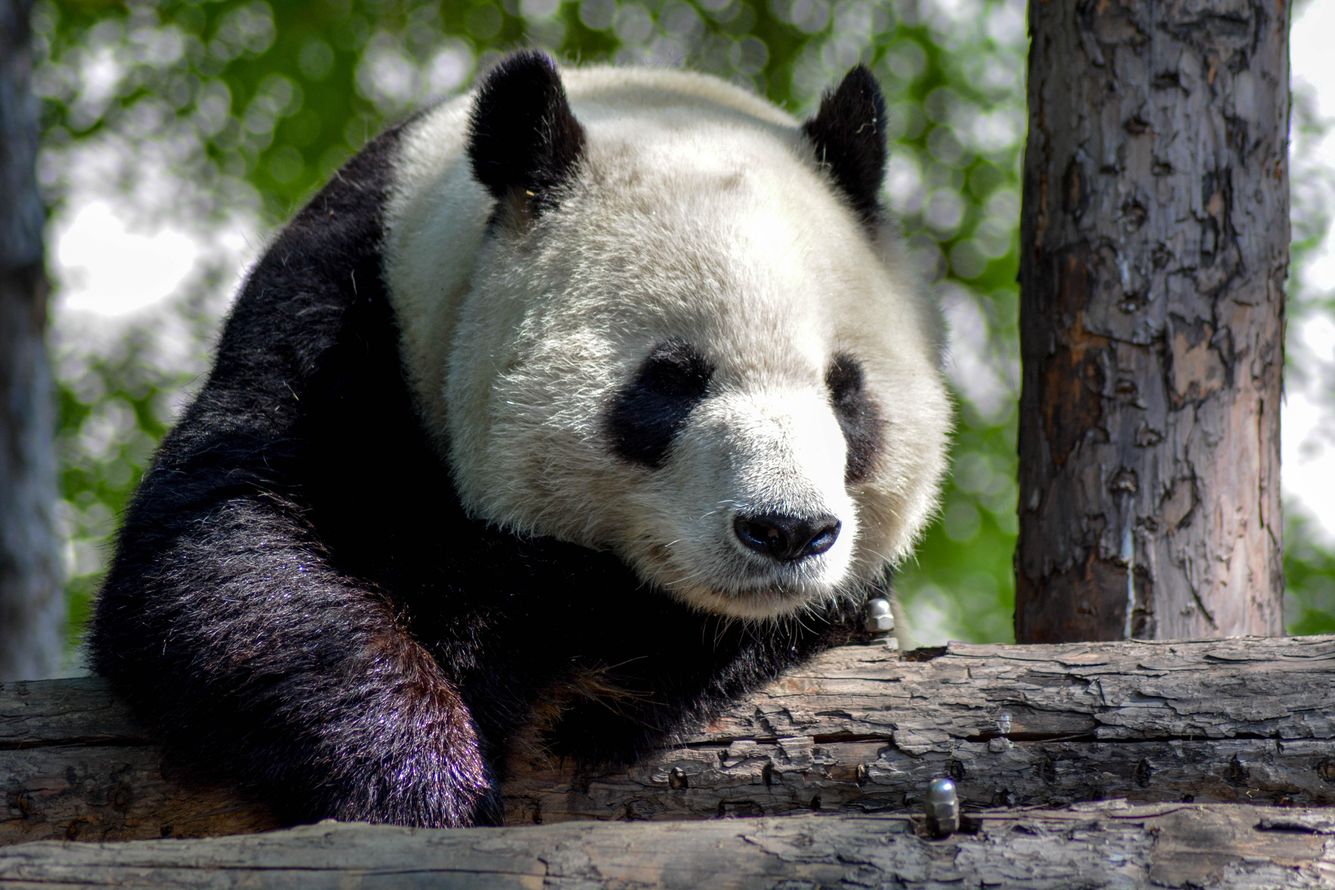panda: (90, 51, 951, 822)
